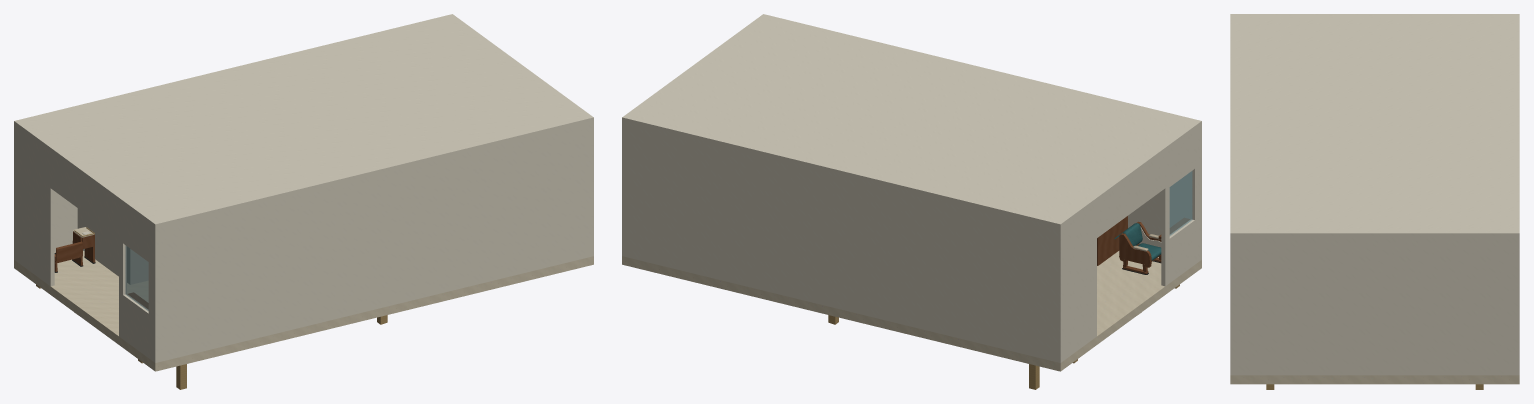
File: NightGardenD15Specialty_572_r002.glb
3 renders of one model, left to right at view 1: azimuth 30°, elevation 25°; view 2: azimuth 150°, elevation 25°; view 3: azimuth 270°, elevation 25°, orthographic. The views are drawn at different scales.
Parts seen in each view (by area): view 1: NG572_RuntimeBatch_001, NG572_RoomFloor, NG572_ScreenedStreetGlass, NG572_RuntimeBatch_013; view 2: NG572_RuntimeBatch_001, NG572_RoomFloor, NG572_ScreenedStreetGlass, NG572_RuntimeBatch_049, NG572_RuntimeBatch_002; view 3: NG572_RuntimeBatch_001, NG572_RoomFloor.
Part boxes in pixels (<box>): NG572_RuntimeBatch_001: <box>14,14,593,362</box>; NG572_RoomFloor: <box>14,250,593,371</box>; NG572_ScreenedStreetGlass: <box>125,245,148,310</box>; NG572_RuntimeBatch_013: <box>54,231,95,271</box>; NG572_RuntimeBatch_001: <box>622,14,1201,362</box>; NG572_RoomFloor: <box>622,251,1201,371</box>; NG572_ScreenedStreetGlass: <box>1169,171,1192,235</box>; NG572_RuntimeBatch_049: <box>1119,221,1161,274</box>; NG572_RuntimeBatch_002: <box>1097,216,1190,265</box>; NG572_RuntimeBatch_001: <box>1230,14,1519,375</box>; NG572_RoomFloor: <box>1230,375,1519,384</box>.
Bounding box in the file's own units: 12.9 × 5.31 × 7.2.
Materials: 73 (49 with a texture image).
